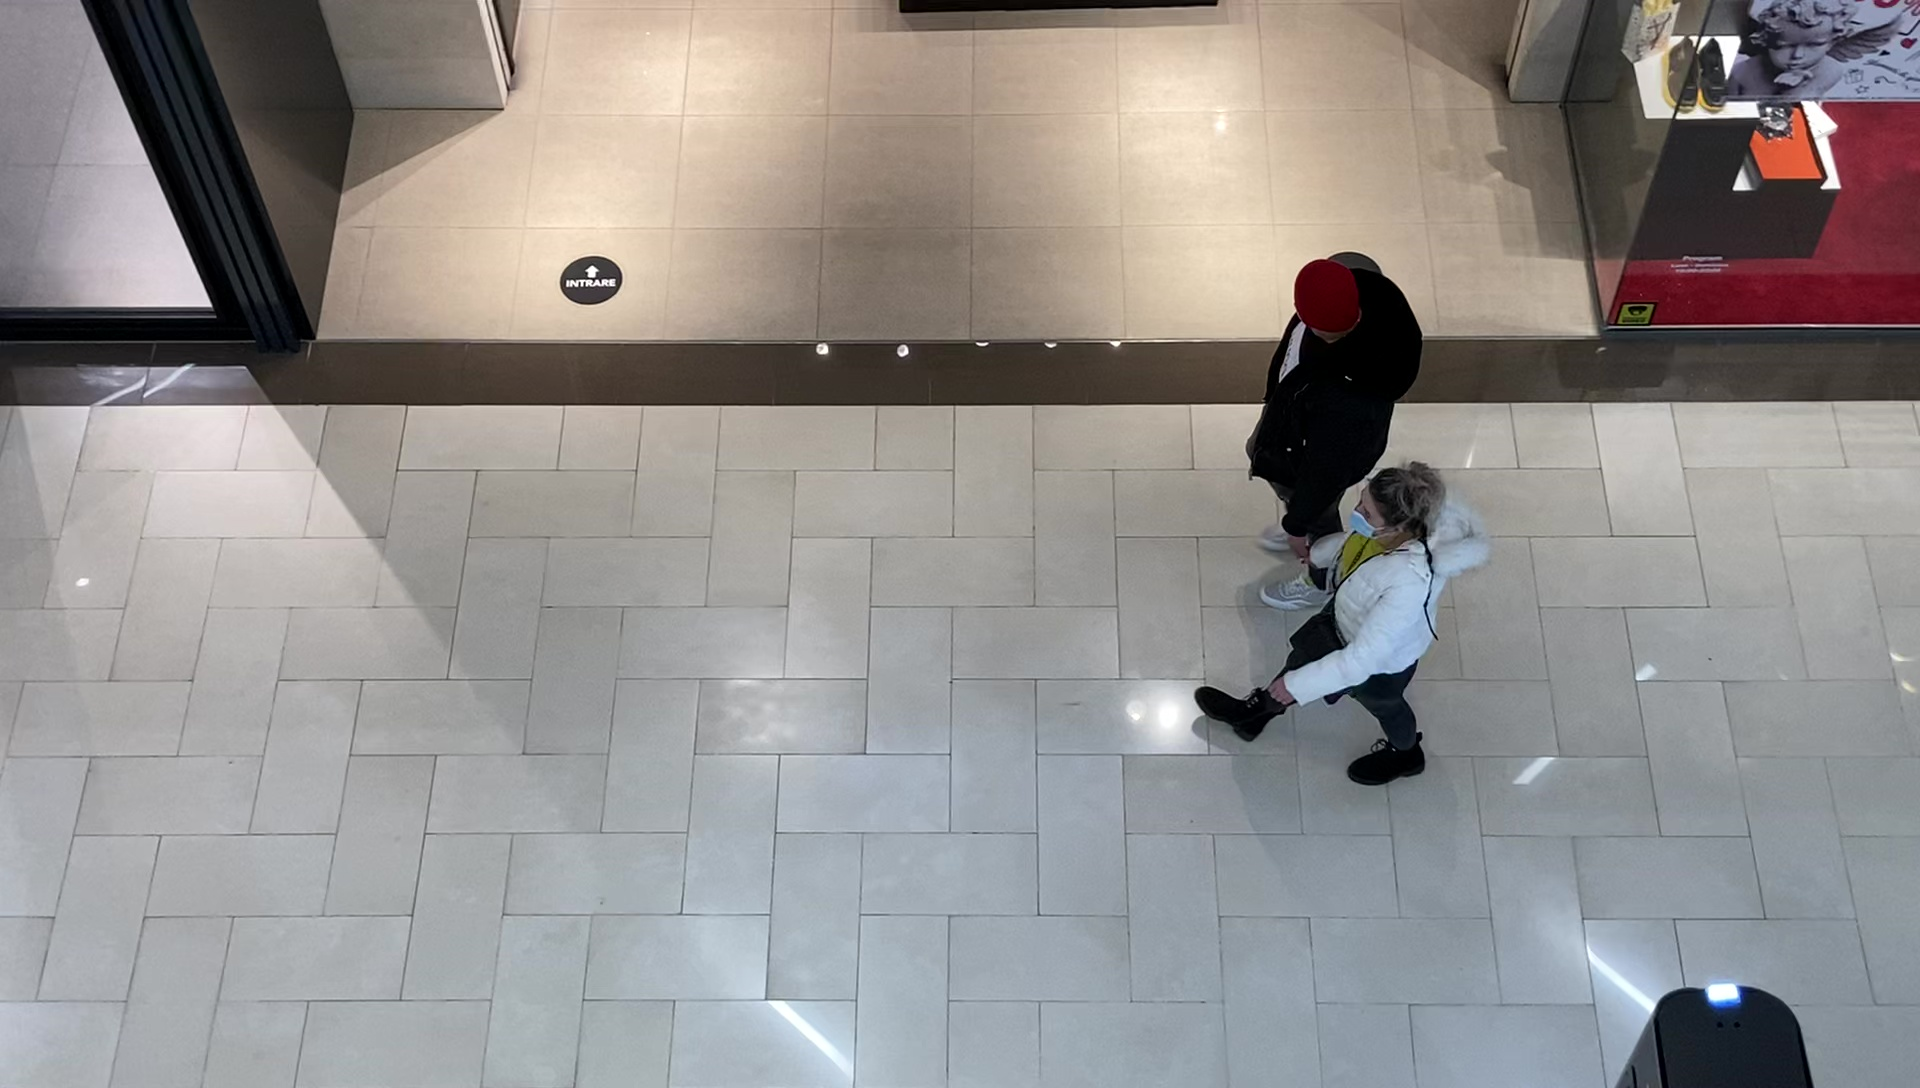person: (1196, 464, 1470, 787), (1255, 250, 1422, 608)
